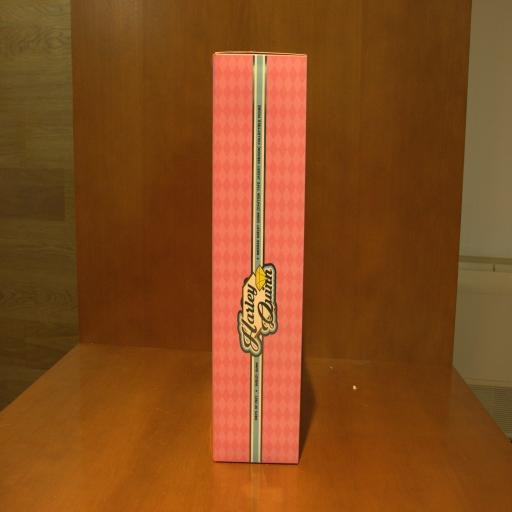Harley: (211, 52, 306, 466)
